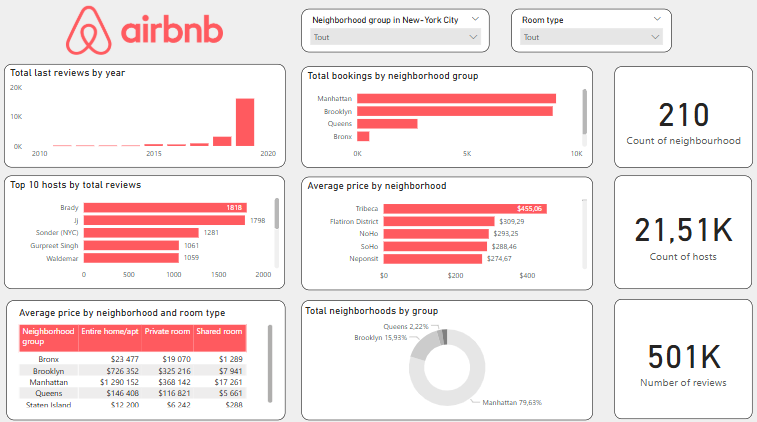

Layout of this report page (visuals, bound fields, positions):
{"tool":"powerbi","page":{"name":"Page 1","canvas":[1280,720],"ordinal":0},"visuals":[{"type":"slicer","fields":{"Values":["AB_NYC_2019.neighbourhood_group"]},"box":[505.2,19,313.8,72.4],"z":0},{"type":"slicer","fields":{"Values":["AB_NYC_2019.room_type"]},"box":[856.9,19,267.2,72.4],"z":1000},{"type":"card","fields":{"Values":["AB_NYC_2019.neighbourhood"]},"box":[1027.6,113.8,231,169],"z":2000},{"type":"card","fields":{"Values":["AB_NYC_2019.host_id"]},"box":[1027.6,296.6,229.3,189.7],"z":3000},{"type":"card","fields":{"Values":["AB_NYC_2019.number_of_reviews"]},"box":[1027,502.7,229.7,200],"z":4000},{"type":"clusteredColumnChart","title":"Total last reviews by year","fields":{"Category":["AB_NYC_2019.last_review.Variation.Hiérarchie de dates.Année"],"Y":["AB_NYC_2019.last_review"]},"box":[10.9,110.9,469.1,172.7],"z":5000},{"type":"clusteredBarChart","title":"Total bookings by neighborhood group","fields":{"Category":["AB_NYC_2019.neighbourhood_group"],"Y":["AB_NYC_2019.name"]},"box":[505.2,113.8,486.2,169],"z":6000},{"type":"clusteredBarChart","title":"Average price by neighborhood","fields":{"Category":["AB_NYC_2019.neighbourhood"],"Y":["AB_NYC_2019.price"]},"box":[505.4,297.3,486.5,189.2],"z":7000},{"type":"clusteredBarChart","title":"Top 10 hosts by total reviews","fields":{"Category":["AB_NYC_2019.host_name"],"Y":["AB_NYC_2019.number_of_reviews"]},"box":[10.3,296.6,469,189.7],"z":8000},{"type":"donutChart","title":"Total neighborhoods by group","fields":{"Category":["AB_NYC_2019.neighbourhood_group"],"Y":["AB_NYC_2019.neighbourhood"]},"box":[505.2,503.4,486.2,200],"z":9000},{"type":"pivotTable","title":"Average price by neighborhood and room type","fields":{"Columns":["AB_NYC_2019.room_type"],"Rows":["AB_NYC_2019.neighbourhood_group"],"Values":["AB_NYC_2019.price"]},"box":[13.8,503.4,465.5,200],"z":10000},{"type":"image","box":[70.7,8.6,348.3,91.4],"z":11000}]}

Visuals, with their boxes in screenshot pixels (x1, y1, x2, y2), scaled from the page's 1280x720 canvas onto the 757x422 screenshot:
slicer - AB_NYC_2019.neighbourhood_group: crop(299, 11, 484, 54)
slicer - AB_NYC_2019.room_type: crop(507, 11, 665, 54)
card - AB_NYC_2019.neighbourhood: crop(608, 67, 744, 166)
card - AB_NYC_2019.host_id: crop(608, 174, 743, 285)
card - AB_NYC_2019.number_of_reviews: crop(607, 295, 743, 412)
"Total last reviews by year" clusteredColumnChart: crop(6, 65, 284, 166)
"Total bookings by neighborhood group" clusteredBarChart: crop(299, 67, 586, 166)
"Average price by neighborhood" clusteredBarChart: crop(299, 174, 587, 285)
"Top 10 hosts by total reviews" clusteredBarChart: crop(6, 174, 283, 285)
"Total neighborhoods by group" donutChart: crop(299, 295, 586, 412)
"Average price by neighborhood and room type" pivotTable: crop(8, 295, 283, 412)
image: crop(42, 5, 248, 59)
